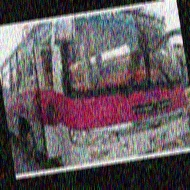bus: (0, 2, 190, 171)
